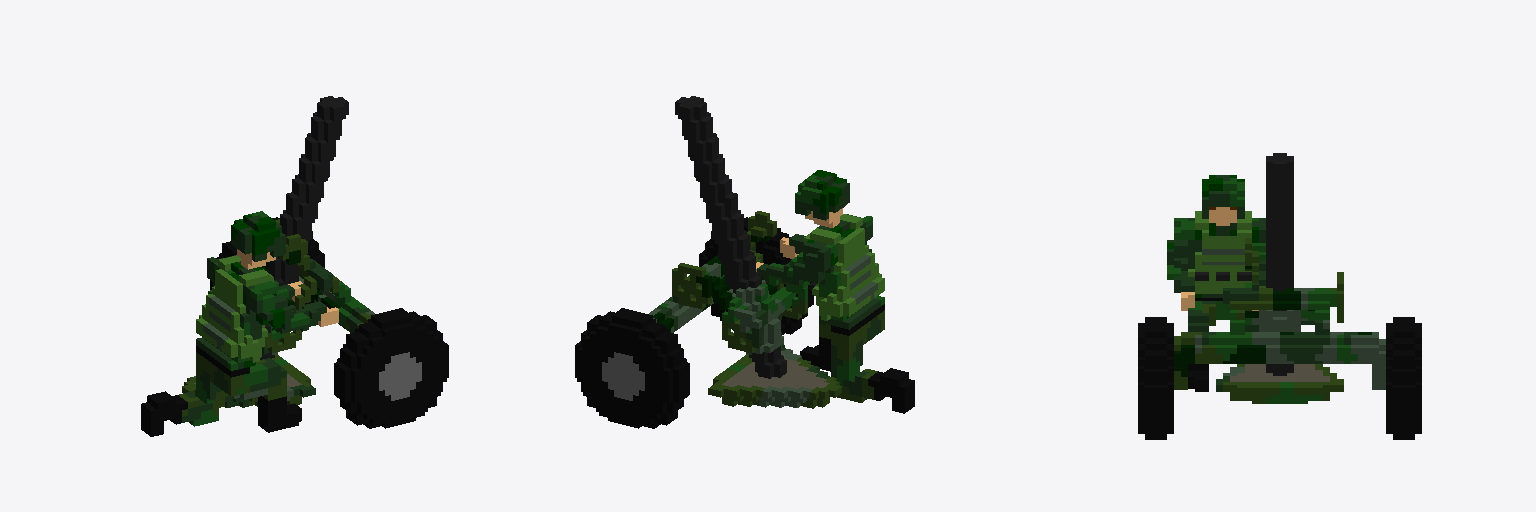
The picture shows the model from 3 angles: view 1: azimuth 30°, elevation 25°; view 2: azimuth 150°, elevation 25°; view 3: azimuth 270°, elevation 25°; orthographic projection.
Parts seen in each view (by area): view 1: object 1; view 2: object 1; view 3: object 1.
Part boxes in pixels (x1,y1,x2,y2): object 1: (141,96,448,436); object 1: (575,96,914,428); object 1: (1138,153,1421,439).
Size of the model in its own units: 4.1 by 4.2 by 4.
1 materials, 1 textured.